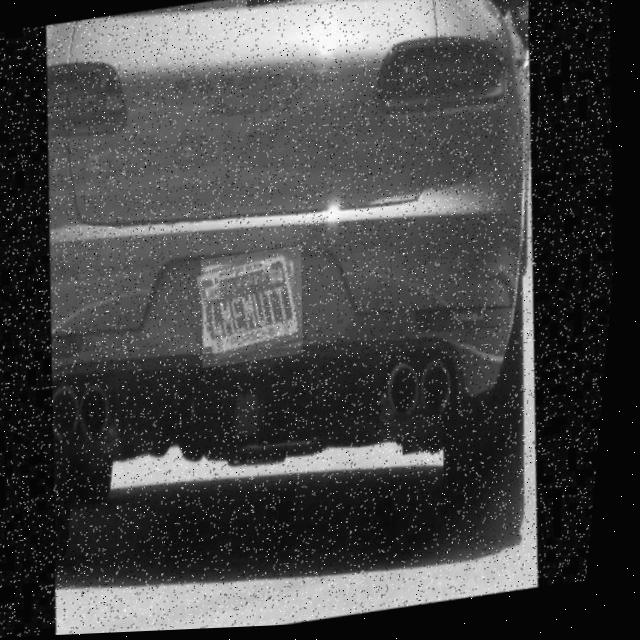LicensePlate: (198, 247, 317, 370)
